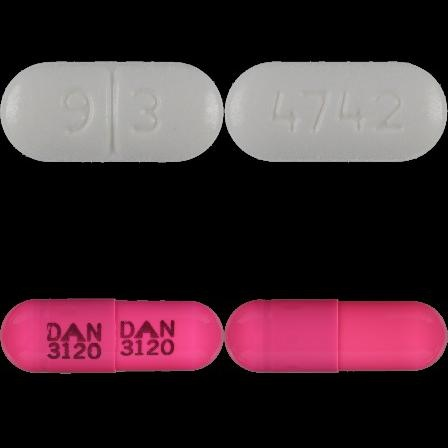10544-150: (0, 0, 224, 224)
